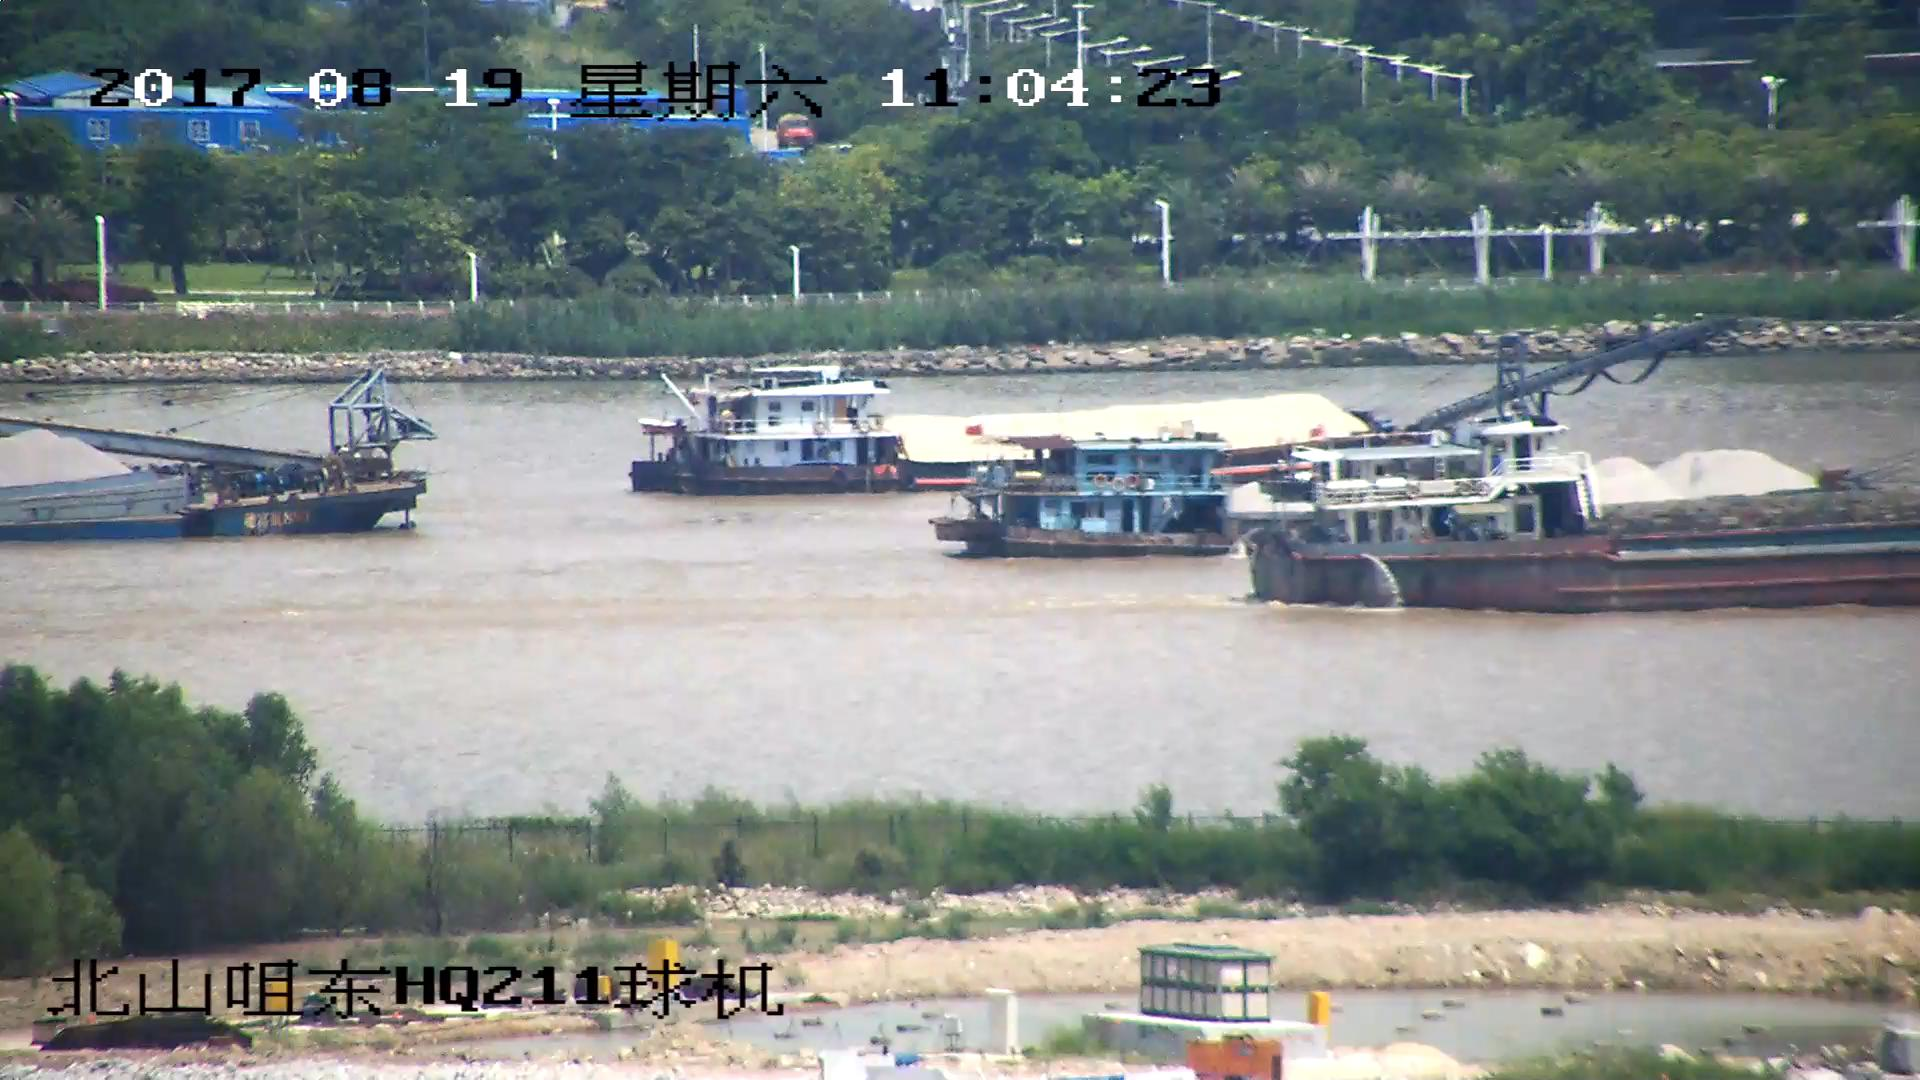bulk cargo carrier: (1232, 450, 1920, 615)
ore carrier: (635, 320, 1730, 499), (934, 435, 1920, 562), (1, 381, 429, 538)
